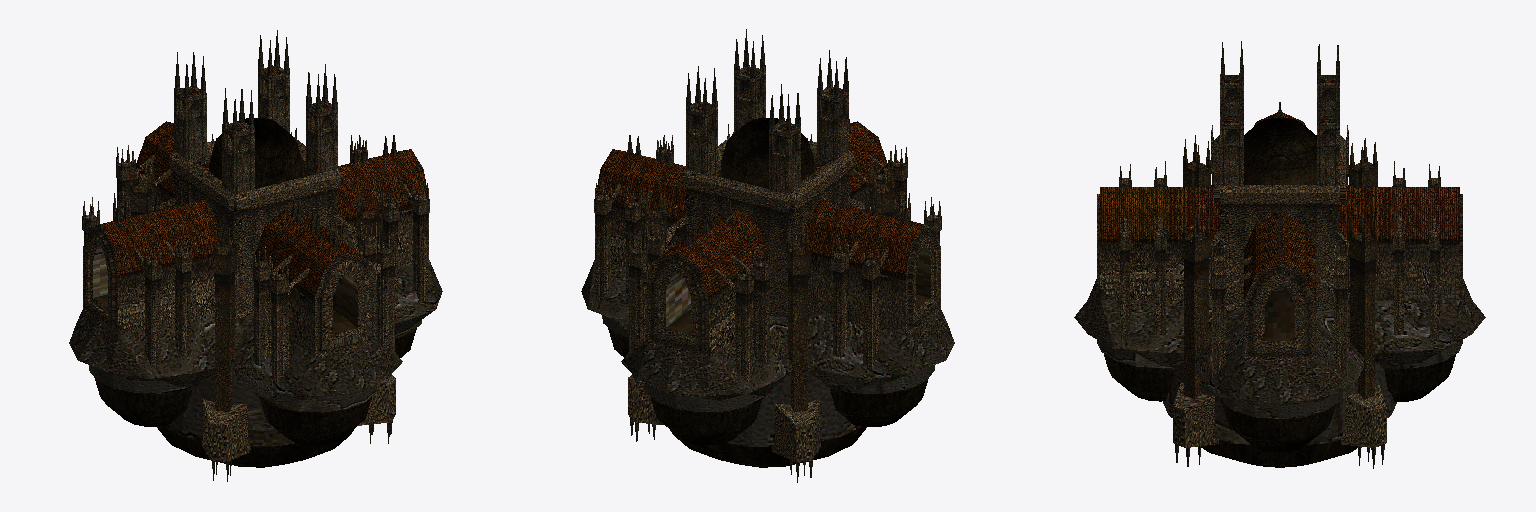
The picture shows the model from 3 angles: view 1: azimuth 30°, elevation 25°; view 2: azimuth 150°, elevation 25°; view 3: azimuth 270°, elevation 25°; orthographic projection.
Parts seen in each view (by area): view 1: Null_Object_; view 2: Null_Object_; view 3: Null_Object_.
Part boxes in pixels (x1,y1,x2,y2): Null_Object_: (69,30,442,481); Null_Object_: (581,29,954,482); Null_Object_: (1074,41,1485,468).
Bounding box in the file's own units: 688 × 720 × 688.
1 materials, 1 textured.